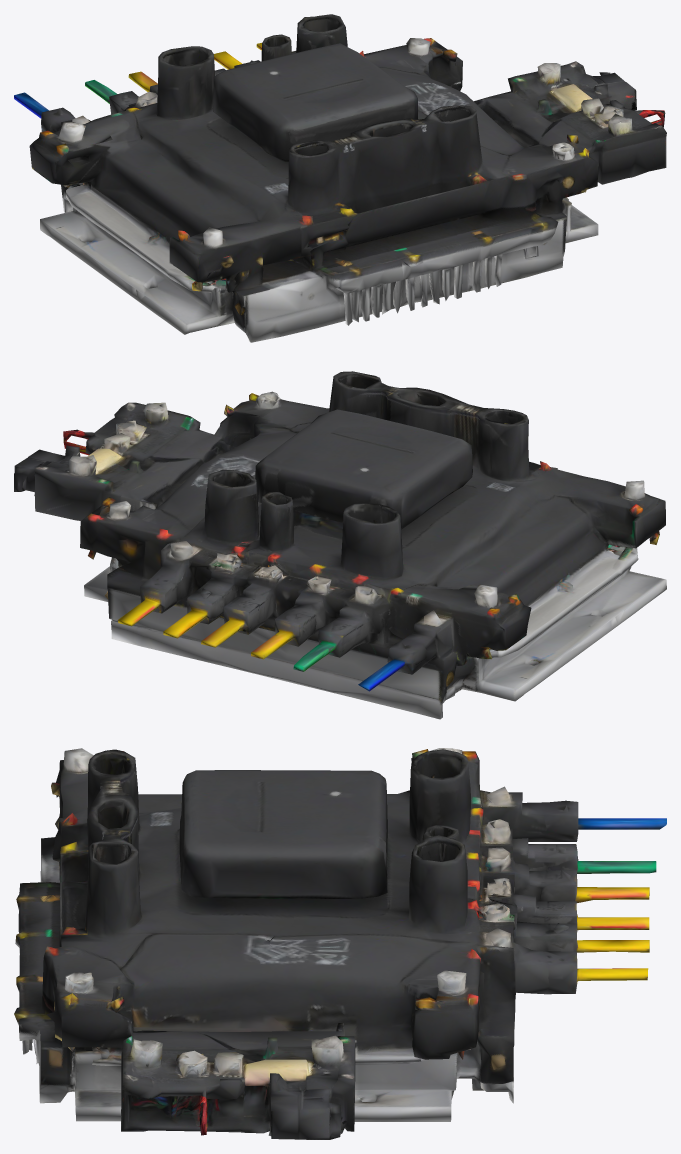
File: Electronic_ai.glb
3 views of the same model, one above another, from view 1: azimuth 30°, elevation 25°; view 2: azimuth 150°, elevation 25°; view 3: azimuth 270°, elevation 25° (orthographic). The views are drawn at different scales.
Bounding box in the file's own units: 2 × 0.564 × 1.65.
Materials: 1 (1 with a texture image).
